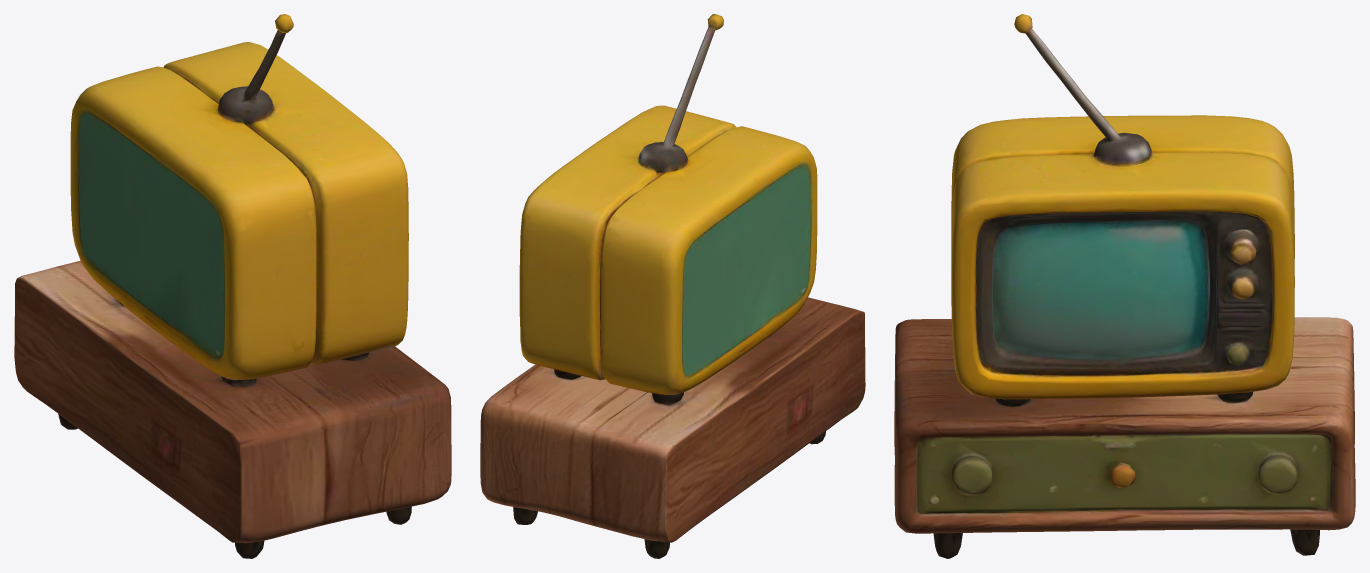
3 views of the same model, side by side, from view 1: azimuth 30°, elevation 25°; view 2: azimuth 150°, elevation 25°; view 3: azimuth 270°, elevation 25° (orthographic). The views are drawn at different scales.
Visible parts, largest first — view 1: tripo_node_9c315f7a-f870-421c-a4b3-6f2164fa5f11; view 2: tripo_node_9c315f7a-f870-421c-a4b3-6f2164fa5f11; view 3: tripo_node_9c315f7a-f870-421c-a4b3-6f2164fa5f11.
Boxes of the visible parts, x1,y1,x2,y2 form: tripo_node_9c315f7a-f870-421c-a4b3-6f2164fa5f11: (14, 14, 451, 558); tripo_node_9c315f7a-f870-421c-a4b3-6f2164fa5f11: (480, 14, 865, 558); tripo_node_9c315f7a-f870-421c-a4b3-6f2164fa5f11: (894, 14, 1355, 558).
Bounding box in the file's own units: 0.4739 × 0.9989 × 0.8296.
1 material, 1 textured.
